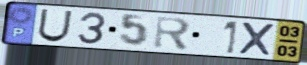1: (221, 20, 240, 55)
3: (76, 11, 107, 46)
5: (120, 13, 151, 50)
R: (152, 15, 193, 52)
U: (36, 8, 75, 43)
X: (237, 21, 277, 58)
